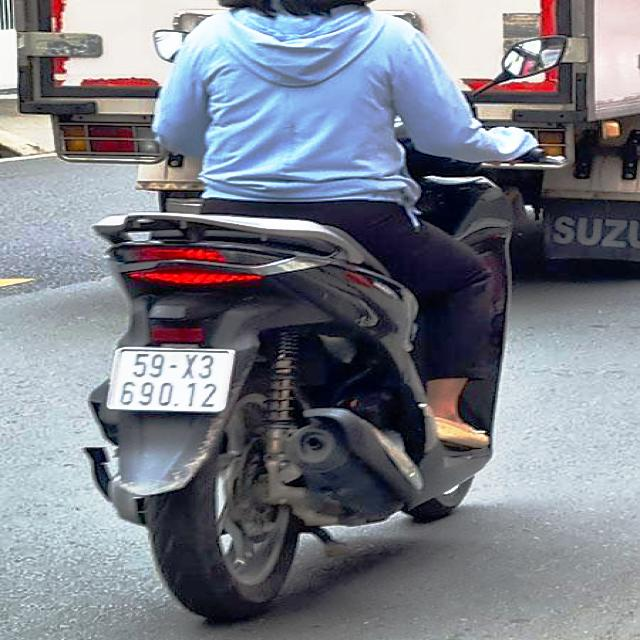license_plate: (110, 346, 237, 413)
